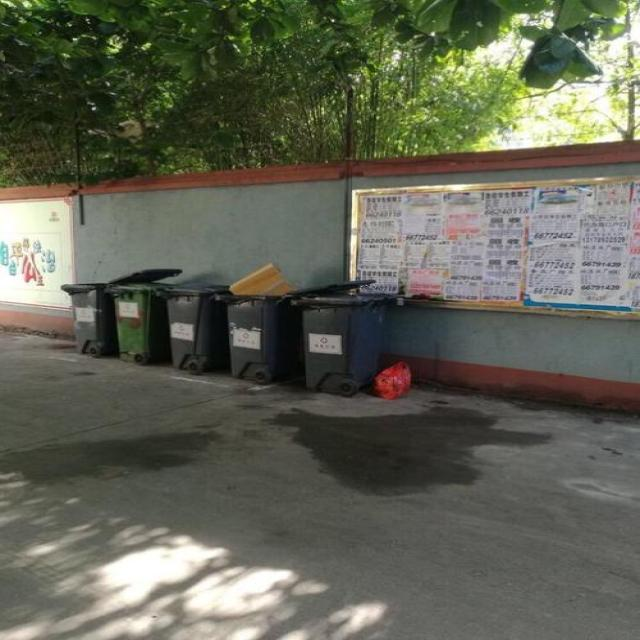garbage: (371, 361, 410, 399)
garbage_bin: (290, 292, 394, 388), (152, 284, 228, 365), (102, 282, 174, 352), (61, 282, 112, 356)
overflow: (214, 263, 294, 379)
